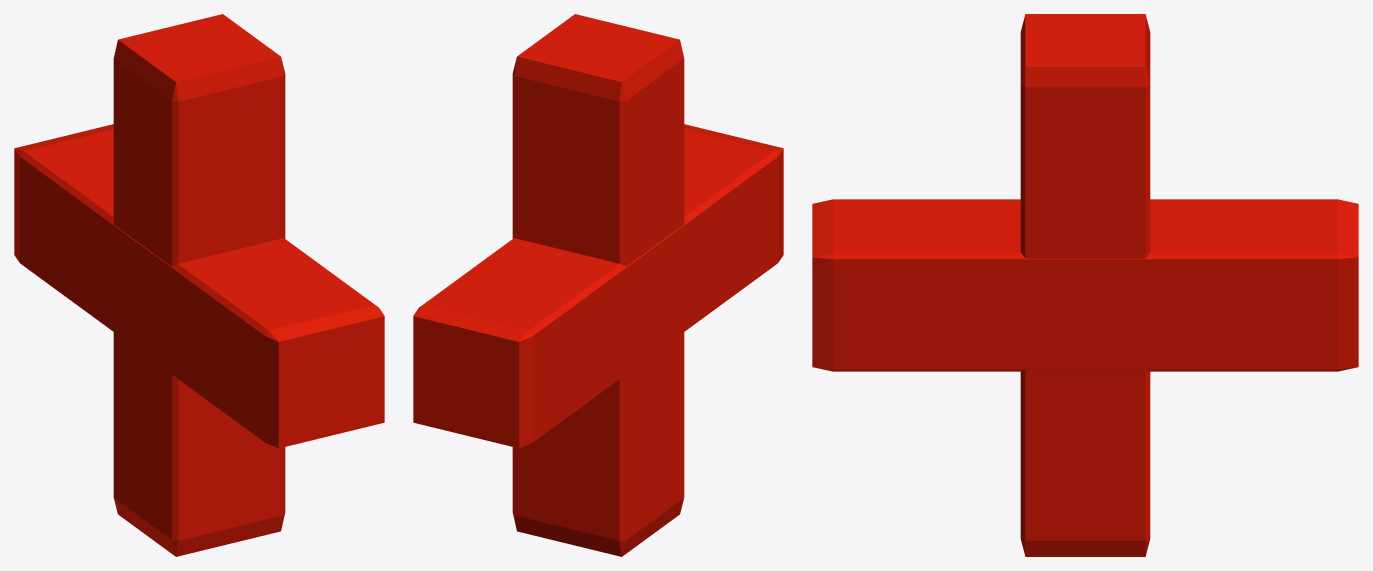
File: healthpickup.gltf
3 renders of one model, left to right at view 1: azimuth 30°, elevation 25°; view 2: azimuth 150°, elevation 25°; view 3: azimuth 270°, elevation 25°, orthographic. The views are drawn at different scales.
Visible parts, largest first — view 1: healthPickup; view 2: healthPickup; view 3: healthPickup.
Part boxes in pixels (bbox=[...]): healthPickup: bbox=[14, 14, 384, 556]; healthPickup: bbox=[413, 14, 783, 556]; healthPickup: bbox=[812, 14, 1358, 556].
Size of the model in its own units: 0.505 by 2 by 2.02.
